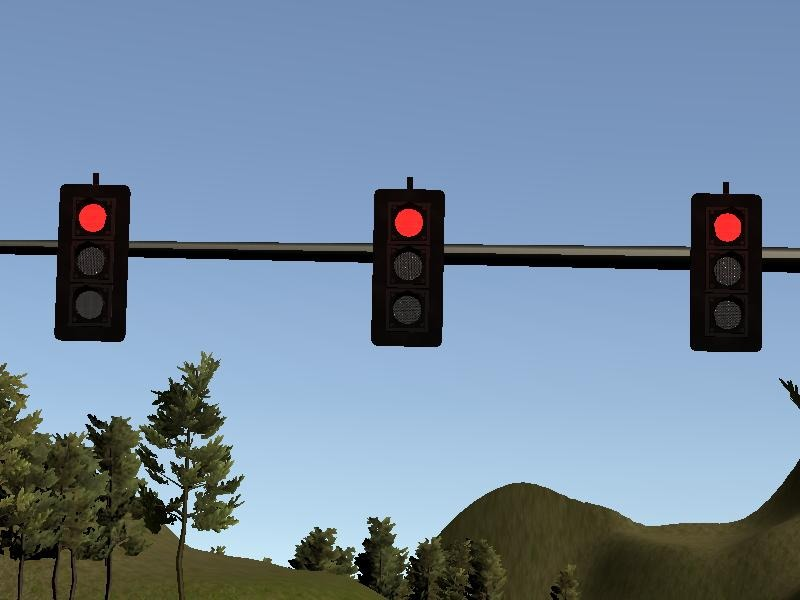red: (56, 184, 129, 343), (689, 194, 762, 353), (372, 189, 445, 348)
